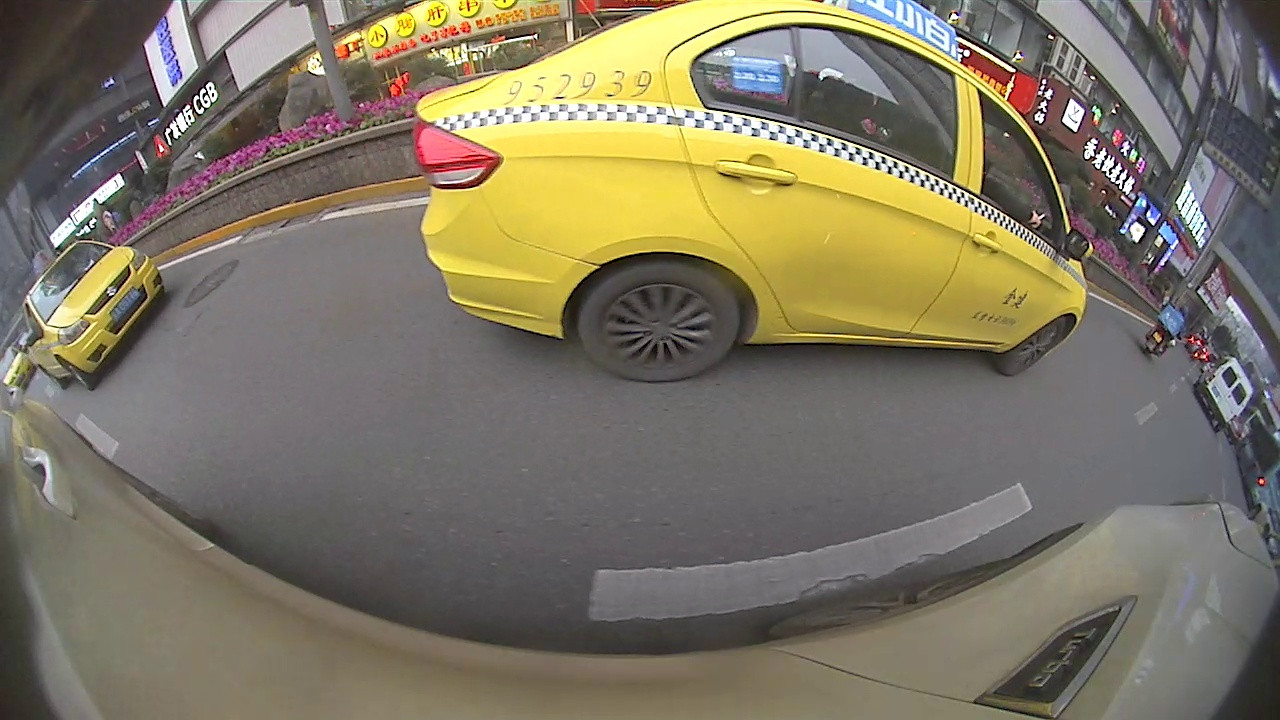car: (413, 3, 1096, 385), (23, 238, 168, 389), (1193, 352, 1256, 433)
front: (997, 315, 1073, 376), (58, 360, 93, 391)
rear: (571, 262, 740, 382)
rider: (1140, 303, 1192, 358)
